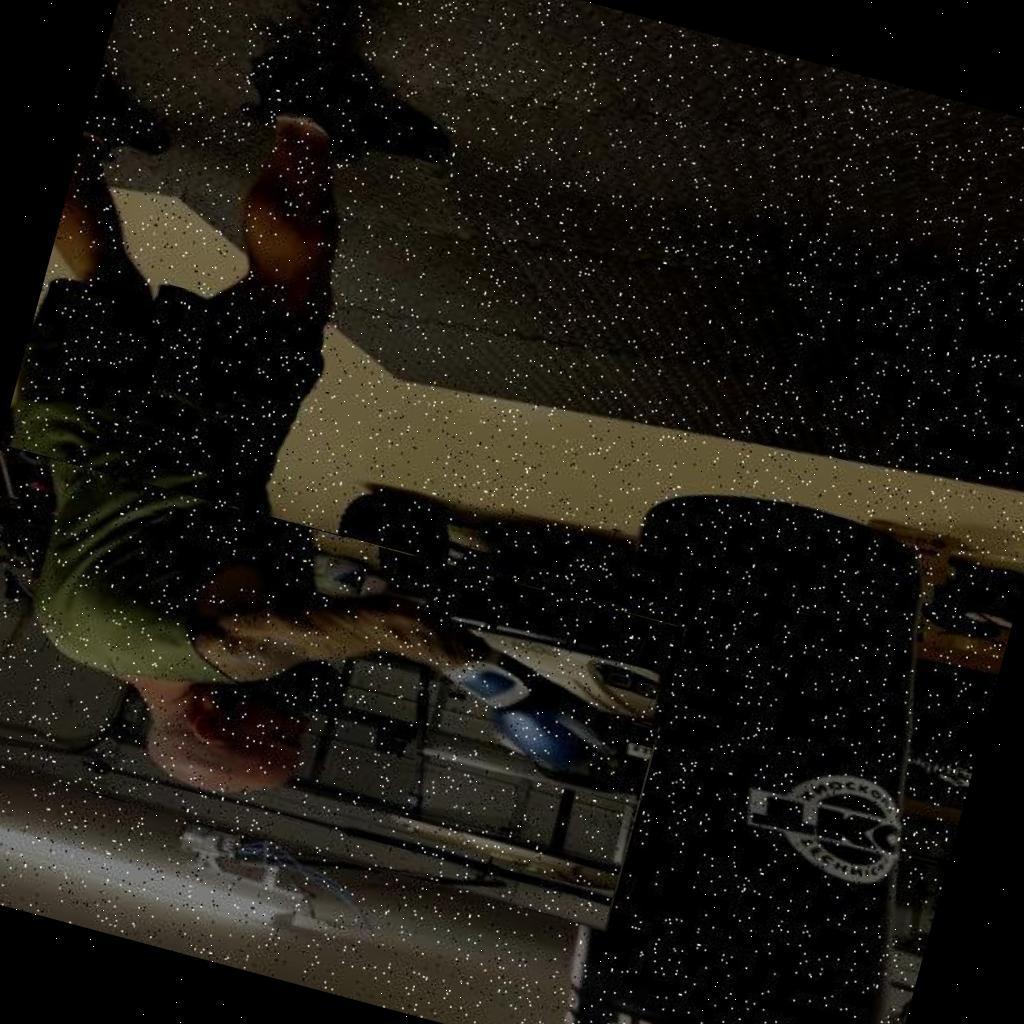bag: (538, 461, 975, 1024)
jab: (0, 444, 685, 929)
